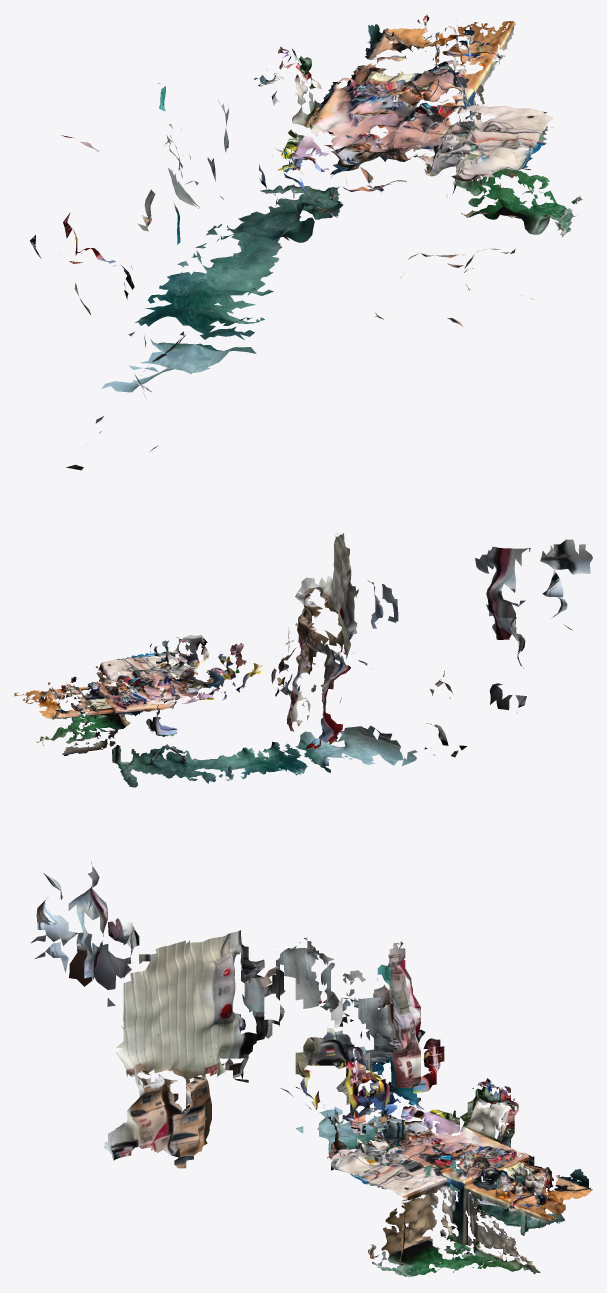
Rendered from 140759-XspaceRoomB-tex.glb.
3 views of the same model, one above another, from view 1: azimuth 30°, elevation 25°; view 2: azimuth 150°, elevation 25°; view 3: azimuth 270°, elevation 25° (orthographic). The views are drawn at different scales.
Parts seen in each view (by area): view 1: Node; view 2: Node; view 3: Node.
Boxes of the visible parts, <box> form: Node: <box>30,14,582,470</box>; Node: <box>14,533,592,787</box>; Node: <box>30,861,592,1277</box>.
Bounding box in the file's own units: 5.78 × 2.47 × 5.38.
Materials: 8 (8 with a texture image).
